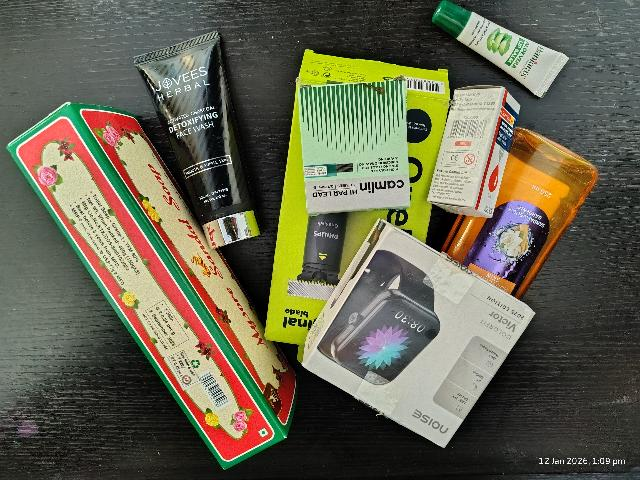banjaras lipbam: (427, 2, 573, 96)
camlin lids: (303, 80, 410, 214)
camlin marker ink: (432, 88, 520, 216)
jovees herbal: (152, 31, 258, 238)
mysore sandal soap: (6, 103, 286, 469)
noise victor smartwatch: (300, 227, 534, 449)
phillips oneblade: (280, 214, 346, 345)
santoor bodywash: (507, 122, 598, 289)
